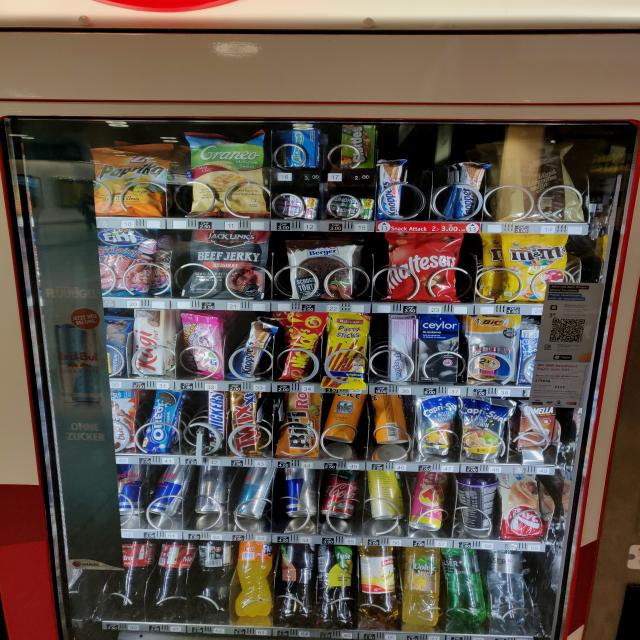7days_croissantschoko_packung_80_1_0000000000003: (500, 474, 544, 538)
airwaves_menthoneucalyptus_riegel_14_1_50173167: (275, 126, 324, 170)
bifi_roll__50__4251097402635: (281, 393, 325, 458)
bueno___43__4008400320328: (106, 387, 138, 453)
c-swiss_dosenabisicetea__33__9120025930135: (323, 392, 368, 444), (371, 395, 411, 445)
caferoyal_classicmacchiato__33__7617014164487: (456, 474, 503, 532)
caprisun_multivitamin__20__4000177605004: (460, 398, 512, 461), (414, 395, 463, 459)
coke__dose_33__54491472: (317, 469, 363, 520)
coke__flasche_50__54491472: (102, 538, 157, 614), (148, 540, 196, 608)
coke_zero_flasche_50__5449000131836: (188, 539, 235, 614)
comella_schokodrink__33__7613100037253: (512, 402, 557, 449)
fanta___50__40822938: (227, 541, 276, 616)
fini_galaxymix_packung_100_1_8410525150364: (94, 228, 160, 298)
fini_jellykisses_packung_80_1_8410525116704: (183, 315, 230, 379)
fuse_lemon__50__5449000235947: (314, 545, 361, 625)
fuse_lemon_dose_33__5449000235947: (364, 472, 404, 522)
fuse_peach__50__5449000236623: (274, 544, 320, 622)
jacklinks_beefjerkyorginal__25__4047751730219: (184, 230, 272, 298)
jlbrichard_gauffrechoko__90__5410495002079: (493, 143, 578, 223)
kagi___50__7610046000259: (130, 307, 170, 378)
knoppers_riegel____4035800488808: (231, 322, 274, 382)
lorenz_nicnacs__40__4018077798818: (280, 310, 328, 382)
malburner_partysticks__40__7610200279682: (319, 314, 372, 389)
maltesers___100__5000159023061: (381, 230, 474, 304)
mnms_gelb__45__40111445: (494, 234, 572, 306)
oreo___66__84100733: (139, 389, 187, 455)
powerbar_proteinplusschoko__55__4029679520028: (95, 314, 132, 378)
ramseier_schorle__50__7610057012456: (359, 547, 400, 621)
redbull___33__90162909: (144, 467, 190, 518), (277, 467, 318, 518), (192, 464, 230, 515), (107, 466, 140, 514)
redbull_light__33__90162800: (230, 466, 276, 519)
skittles_sour_riegel_51_1_0000000000004: (337, 121, 382, 172)
snickers___50__5000159461122: (202, 389, 228, 455)
stimorol_spearmint_riegel_14_1_0000000000005: (330, 197, 375, 218)
stimorol_wildcherry_riegel_14_1_57060330: (273, 193, 319, 219)
tiki_himbeer_brause__50__00000000009342: (407, 473, 449, 533)
twix___50__5000159459228: (224, 389, 265, 457)
valser_classic__50__76404160: (441, 548, 488, 628)
valser_still__50__7610335002575: (485, 550, 528, 625)
volvic_pinapple__50__305764335648: (396, 547, 444, 628)
zweifel_graneochilli__100__7610095184009: (180, 131, 268, 218)
zweifel_paprika__90__7610095013002: (94, 142, 173, 217)
